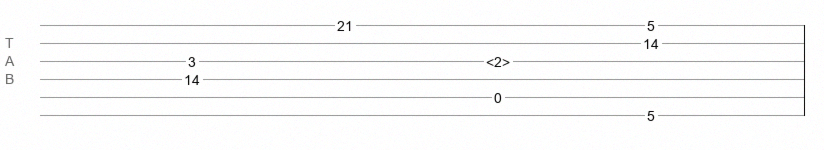0: (494, 90, 502, 100)
14: (184, 72, 200, 82), (643, 36, 659, 46)
21: (337, 18, 353, 28)
3: (188, 54, 196, 64)
5: (647, 18, 655, 28), (647, 108, 655, 118)
harmonic: (486, 54, 510, 64)
